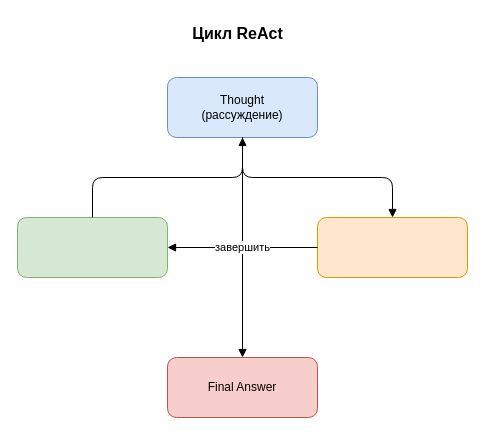
Some shapes in this 485 by 435 pixel diagram are drawn without their labels. The centre of each missing label's shape, as x and y in pixels:
"Action (вызов инструмента)" belongs at (x=392, y=247).
"Observation (результат)" belongs at (x=92, y=247).
